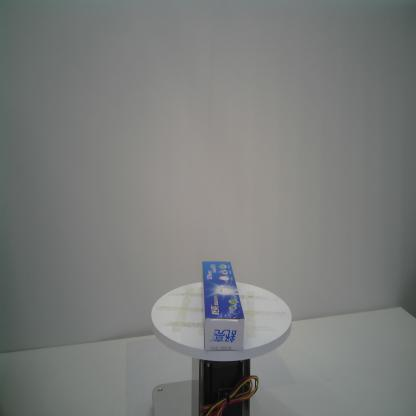Personal Hygiene: (199, 258, 245, 352)
